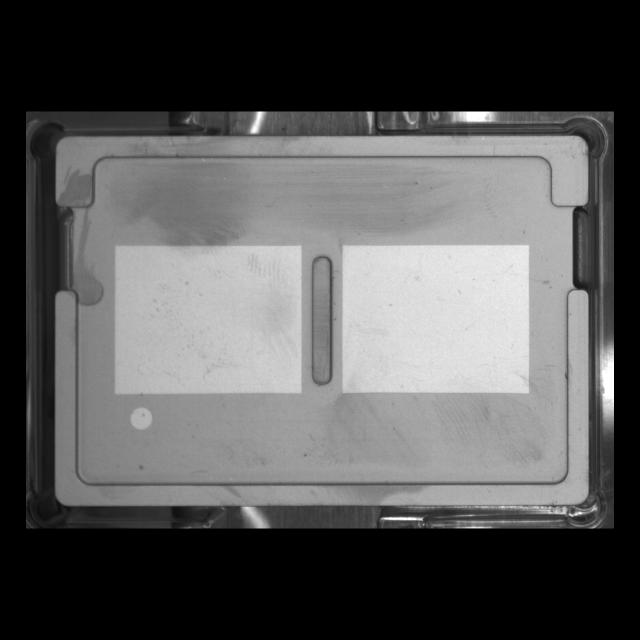door: (39, 127, 599, 220)
point: (121, 398, 161, 438)
